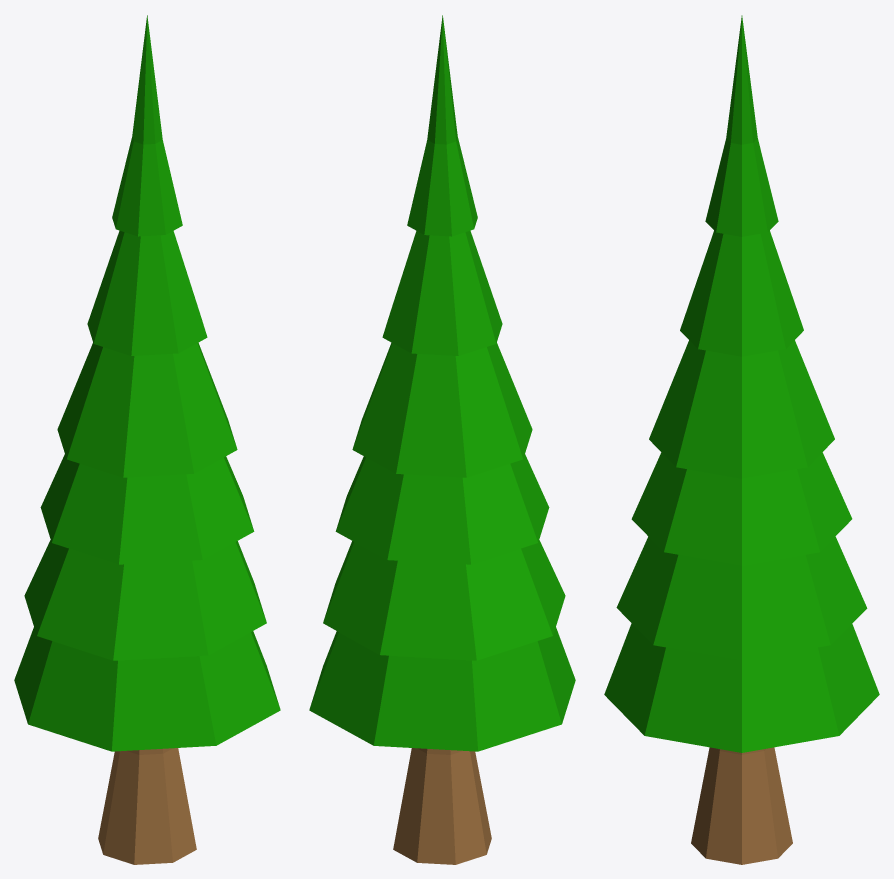
The model's file is pine-tree.fbx.
3 renders of one model, left to right at view 1: azimuth 30°, elevation 25°; view 2: azimuth 150°, elevation 25°; view 3: azimuth 270°, elevation 25°, orthographic.
Parts seen in each view (by area): view 1: Tree; view 2: Tree; view 3: Tree.
Boxes of the visible parts, box(x1,y1,x2,y2) form: Tree: box(14, 15, 280, 864); Tree: box(309, 15, 575, 864); Tree: box(604, 15, 879, 864).
Bounding box in the file's own units: 96.19 × 319 × 96.19.
